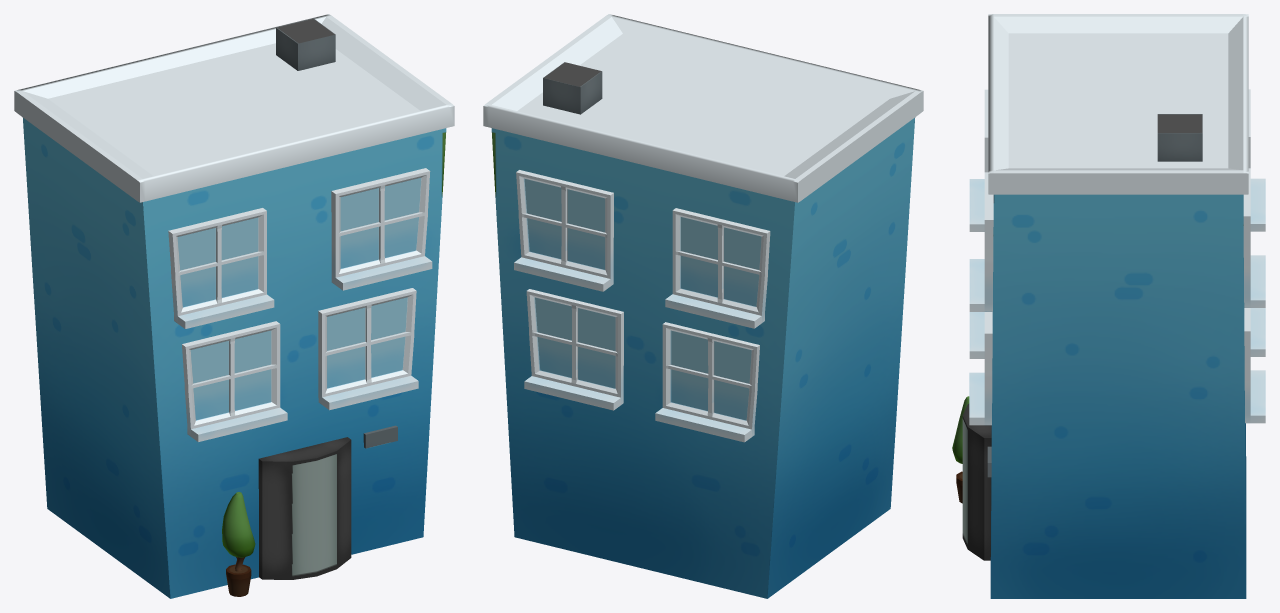
The model's file is flat.fbx.
3 renders of one model, left to right at view 1: azimuth 30°, elevation 25°; view 2: azimuth 150°, elevation 25°; view 3: azimuth 270°, elevation 25°, orthographic. The views are drawn at different scales.
Visible parts, largest first — view 1: house6; view 2: house6; view 3: house6.
Boxes of the visible parts, left/top/right/bottom form: house6: left=14, top=14, right=454, bottom=598; house6: left=483, top=14, right=923, bottom=598; house6: left=952, top=14, right=1265, bottom=598.
Size of the model in its own units: 6.22 by 8.42 by 5.18.
